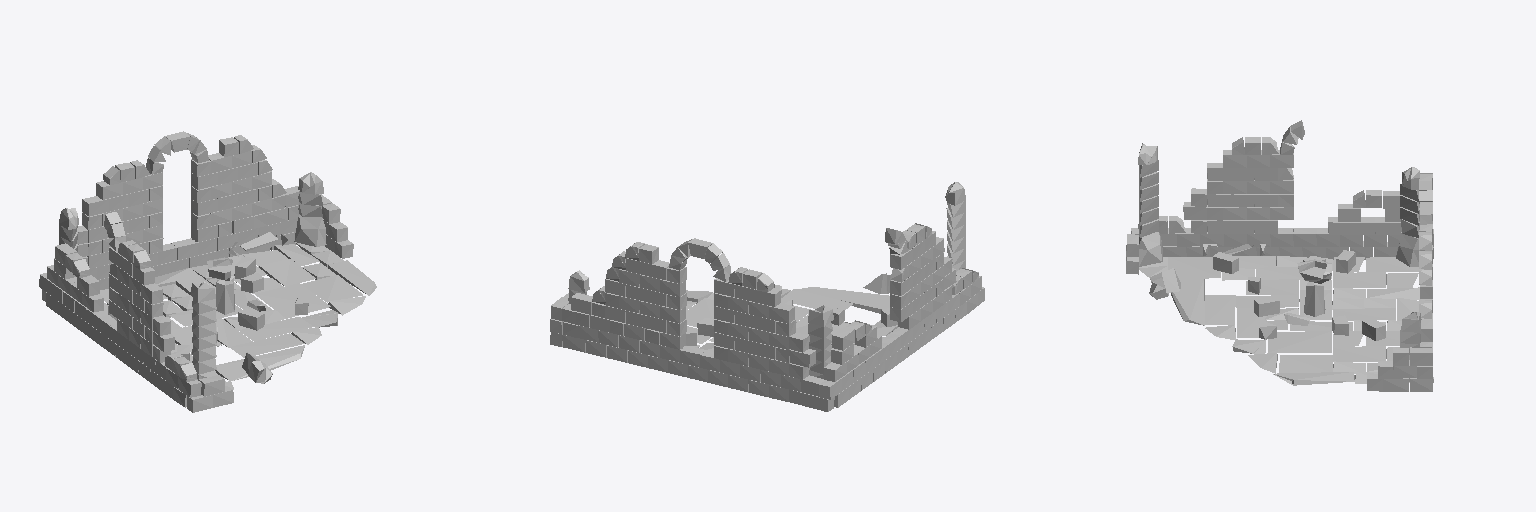
Rendered from pierre ele 1fix.obj.
The picture shows the model from 3 angles: view 1: azimuth 30°, elevation 25°; view 2: azimuth 150°, elevation 25°; view 3: azimuth 270°, elevation 25°; orthographic projection.
Parts seen in each view (by area): view 1: brique_sep165_default23; view 2: brique_sep165_default23; view 3: brique_sep165_default23.
Part boxes in pixels (x1,y1,x2,y2): brique_sep165_default23: (39,131,376,412); brique_sep165_default23: (550,182,984,411); brique_sep165_default23: (1126,120,1433,391).
Bounding box in the file's own units: 8.13 × 3.75 × 7.69.